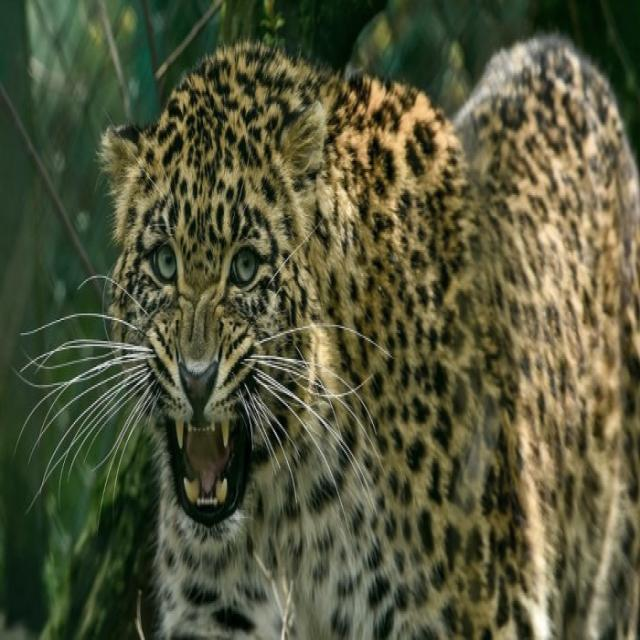leopard: (102, 36, 640, 638)
